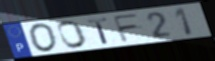1: (174, 6, 194, 37)
2: (146, 11, 174, 40)
F: (111, 12, 142, 44)
O: (56, 19, 88, 50), (28, 22, 59, 53)
T: (86, 16, 111, 45)
